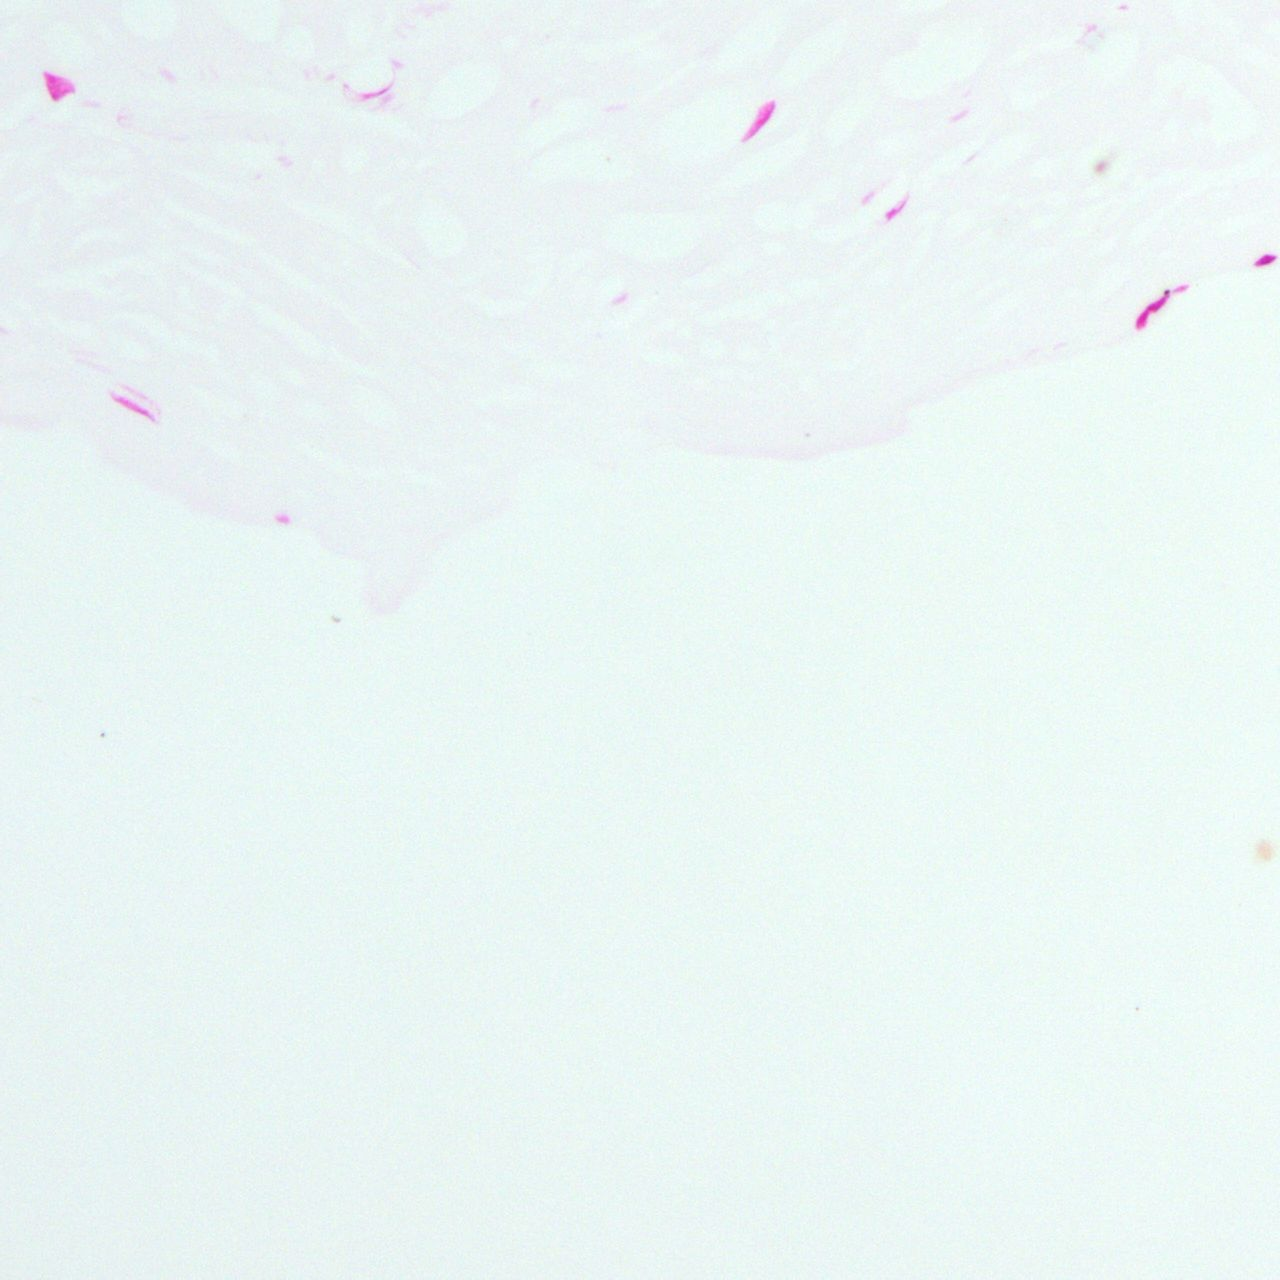dust: (1255, 843, 1273, 863), (331, 613, 343, 624)
nucleus-FG: (1252, 251, 1276, 267)
